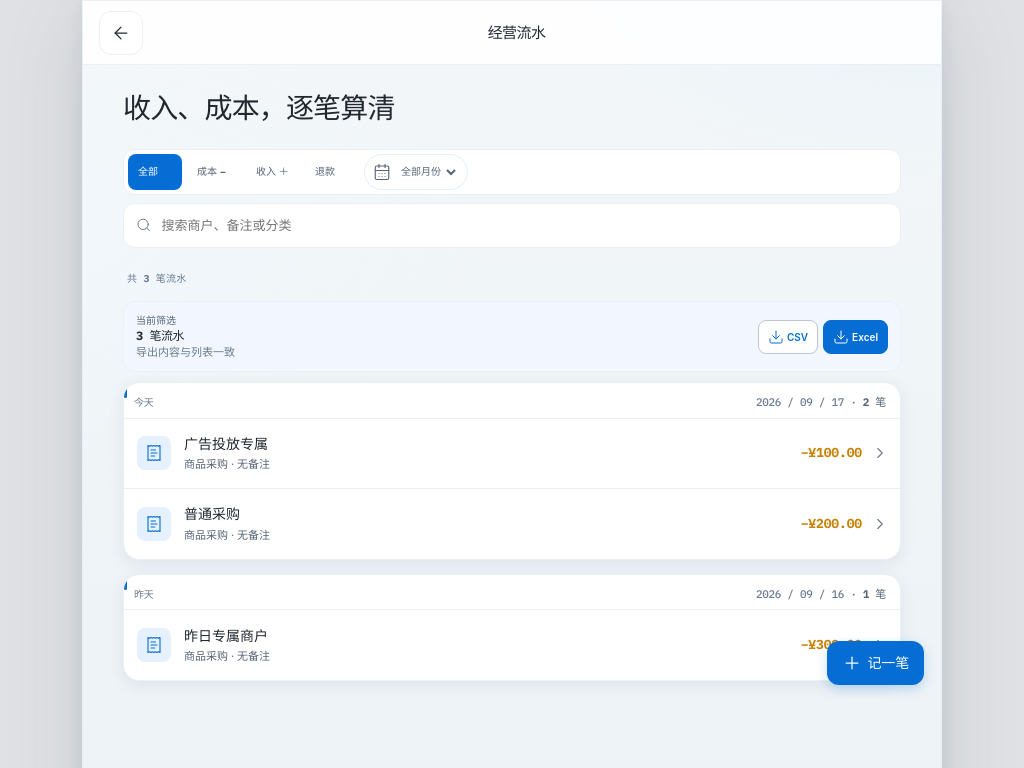
Test: C2 经营流水扫描效率：日期分组与金额列 › 搜索筛选后分组正确：仅保留匹配日期的组且笔数小计正确
Type "专属" into the field with placeholder "搜索商户、备注或分类" at [524, 225], box [160,215,888,236]
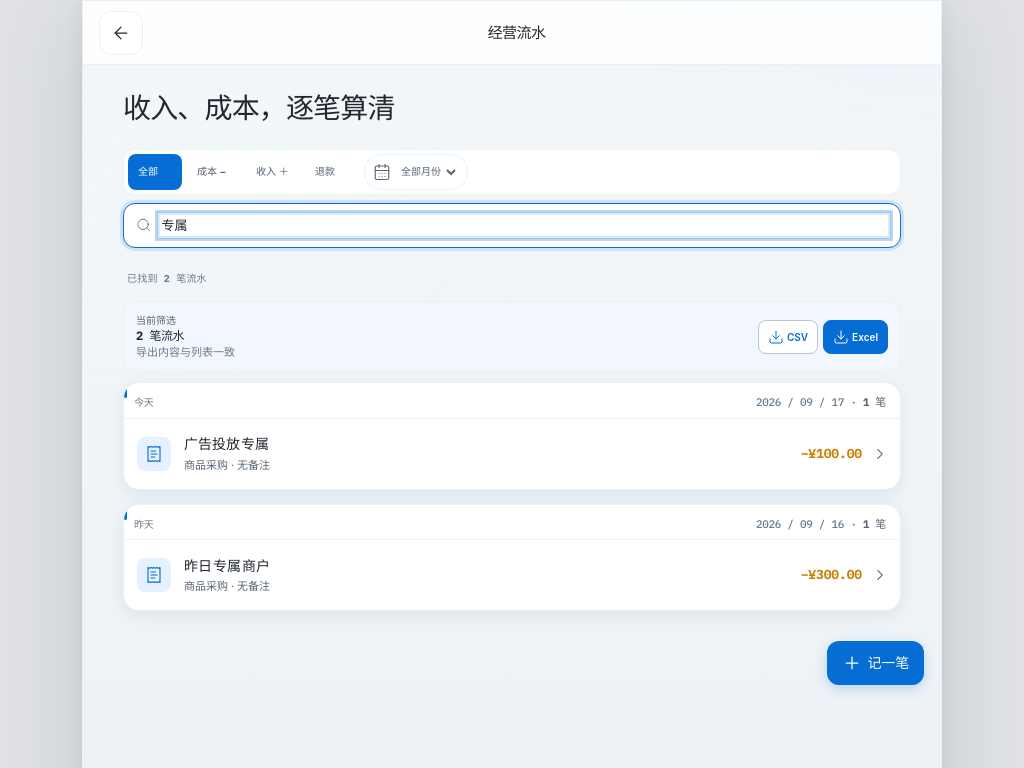
expect the text with test id "record-group-count" next to "2026 / 09 / 16" reads "1 笔": met, box [863,517,886,531]
expect the text with test id "record-group-count" next to "2026 / 09 / 17" reads "1 笔": met, box [863,396,886,410]
expect the button "普通采购" is gone: met
